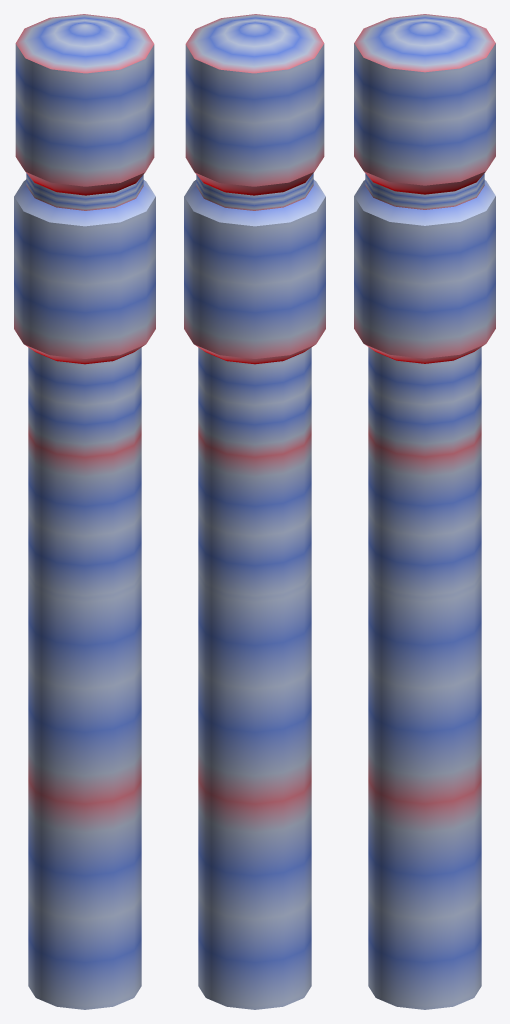
3 views of the same model, side by side, from view 1: azimuth 30°, elevation 25°; view 2: azimuth 150°, elevation 25°; view 3: azimuth 270°, elevation 25° (orthographic).
Visible parts, largest first — view 1: Joint_0_Object_0; view 2: Joint_0_Object_0; view 3: Joint_0_Object_0.
Boxes of the visible parts, x1,y1,x2,y2 form: Joint_0_Object_0: [14, 14, 155, 1009]; Joint_0_Object_0: [184, 14, 325, 1009]; Joint_0_Object_0: [354, 14, 495, 1009].
Bounding box in the file's own units: 250 × 1867 × 250.
